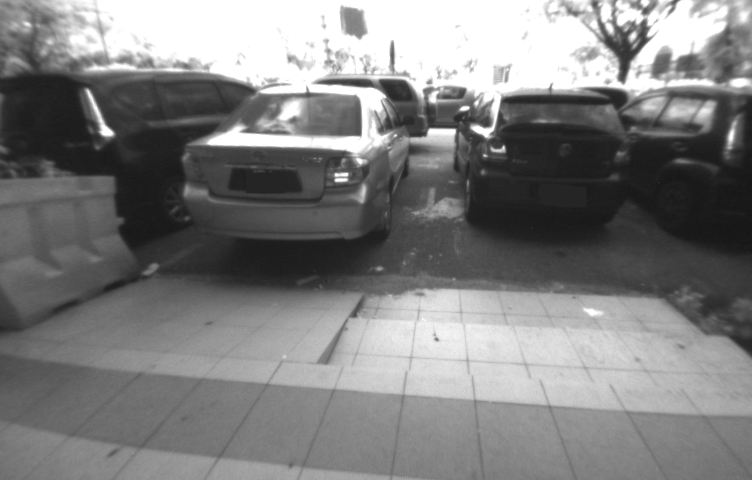down_steps: (326, 283, 747, 390)
mixed_gradient: (268, 277, 402, 377)
